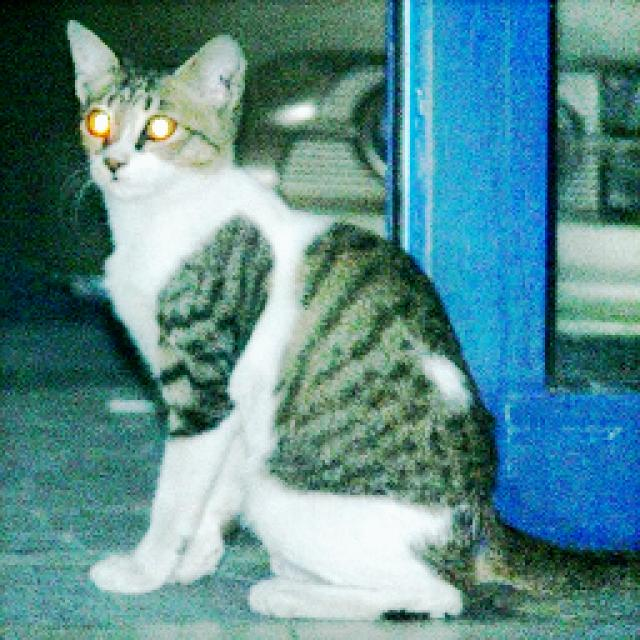cat: (33, 4, 528, 640)
